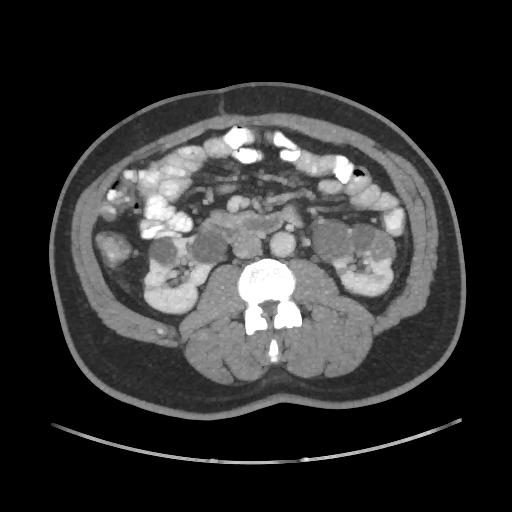Lesion: (370, 231, 400, 266)
